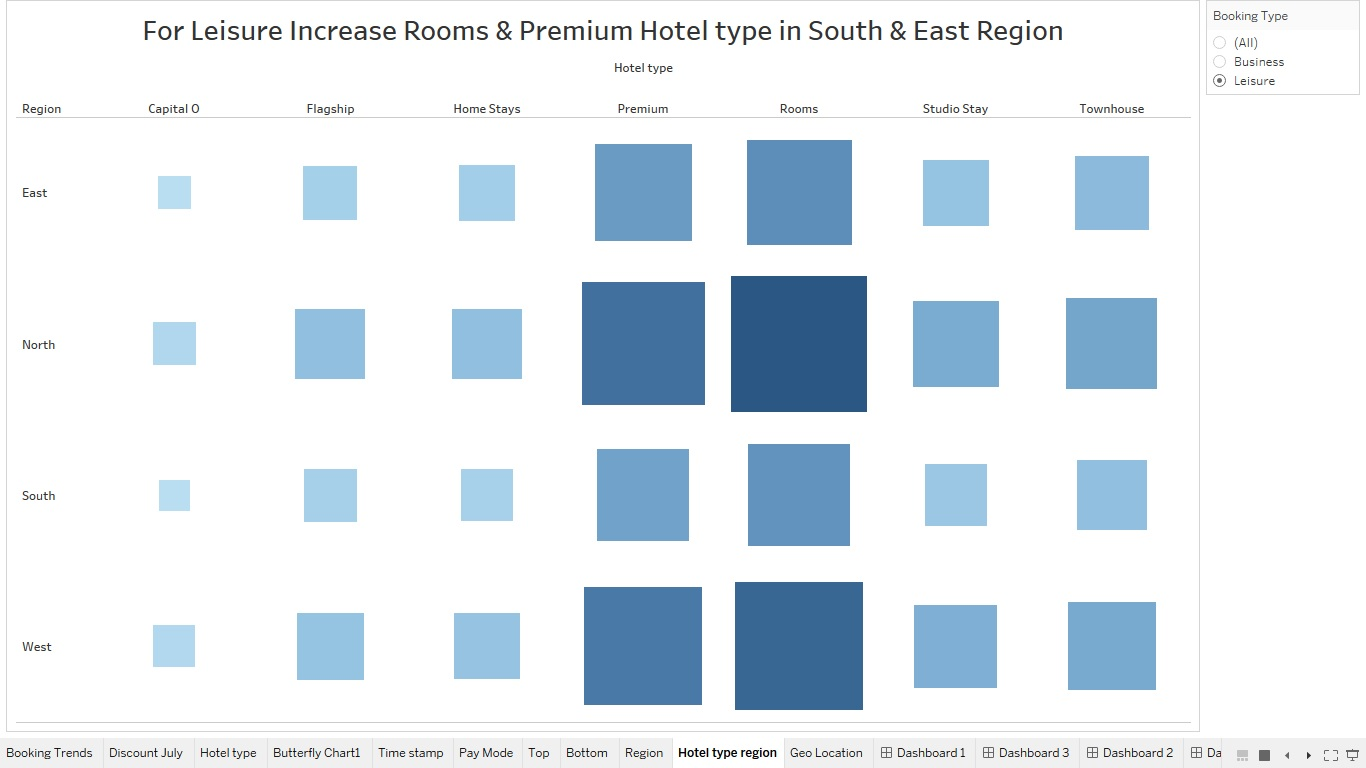

The page's visual inventory and layout, read from the dashboard file:
{"tool":"tableau","page":{"name":"Dashboard 6","canvas":[1000,1000],"units":"permille","ordinal":5},"visuals":[{"type":"worksheet","title":"Region","mark":"Automatic","rows":["Booking ID"],"box":[6.9,13.5,492.9,973]},{"type":"worksheet","title":"Hotel type region","mark":"Automatic","cols":["Hotel_type"],"box":[499.9,13.5,493.2,973]},{"type":"filter","title":"Region","param":"[federated.02ywmwl043gm9t17ci74g0jf1cxd].[none:Calculation_166633190341967872:nk","box":[358.6,118.2,137.9,147]}]}

Visuals, with their boxes on the dashboard's canvas, which has no fixed pixel size, in thousandths of its width and height (x1, y1, x2, y2). These are canvas units, not pixel positions in the 1366x768 screenshot, which may show the page scaled, cropped or inside an application window:
"Region" worksheet: l=7, t=14, r=500, b=986
"Hotel type region" worksheet: l=500, t=14, r=993, b=986
"Region" filter: l=359, t=118, r=496, b=265
